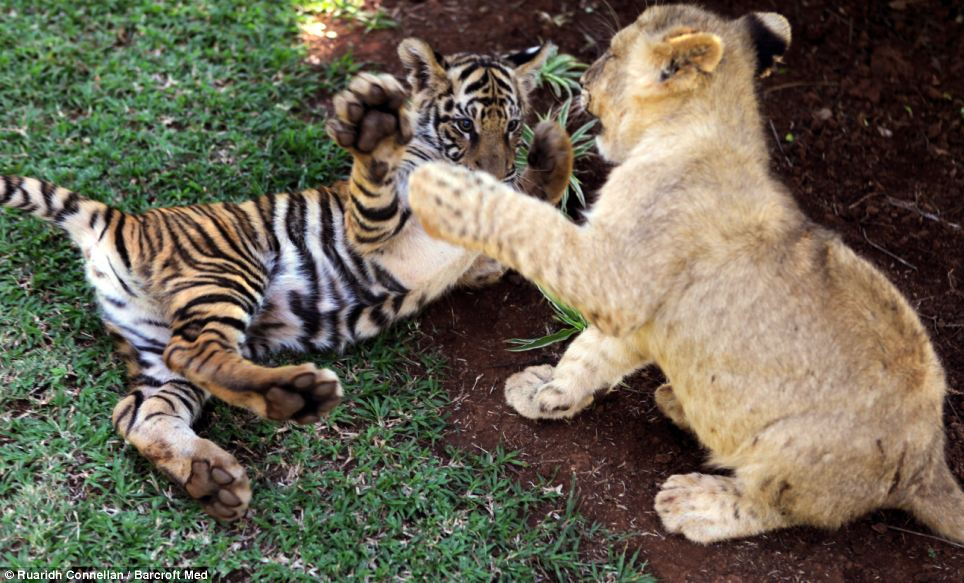lion: (418, 3, 964, 545)
tiger: (1, 34, 577, 518)
